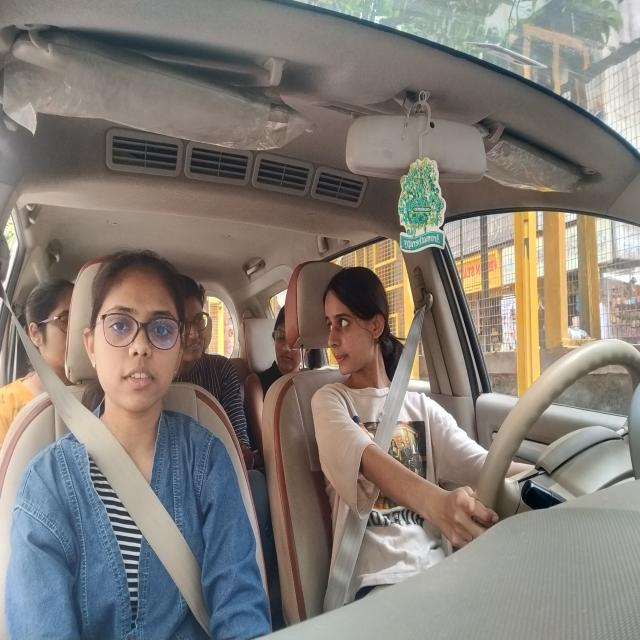LeftRight: (319, 261, 406, 417)
person: (59, 234, 194, 433), (14, 270, 71, 377), (263, 301, 315, 382), (180, 264, 214, 378)
talking: (324, 342, 361, 373)
